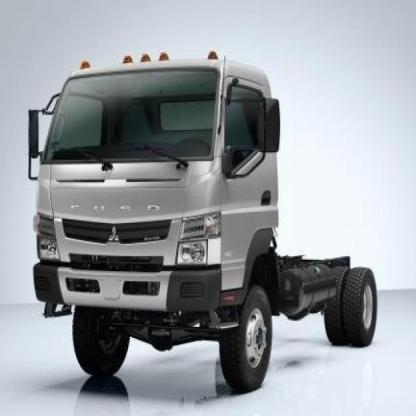truck: (29, 49, 378, 391)
